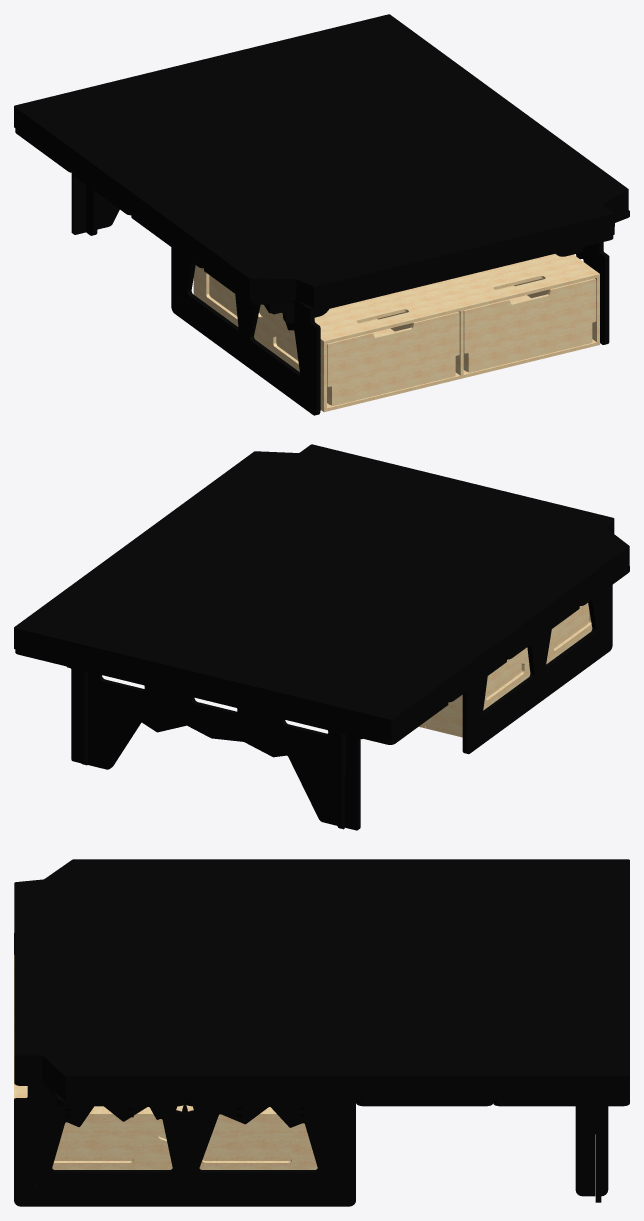
File: Cuillin_expedition_couchage.glb
3 views of the same model, one above another, from view 1: azimuth 30°, elevation 25°; view 2: azimuth 150°, elevation 25°; view 3: azimuth 270°, elevation 25° (orthographic). The views are drawn at different scales.
Bounding box in the file's own units: 1.5 × 0.4976 × 1.8.
Materials: 2 (1 with a texture image).
